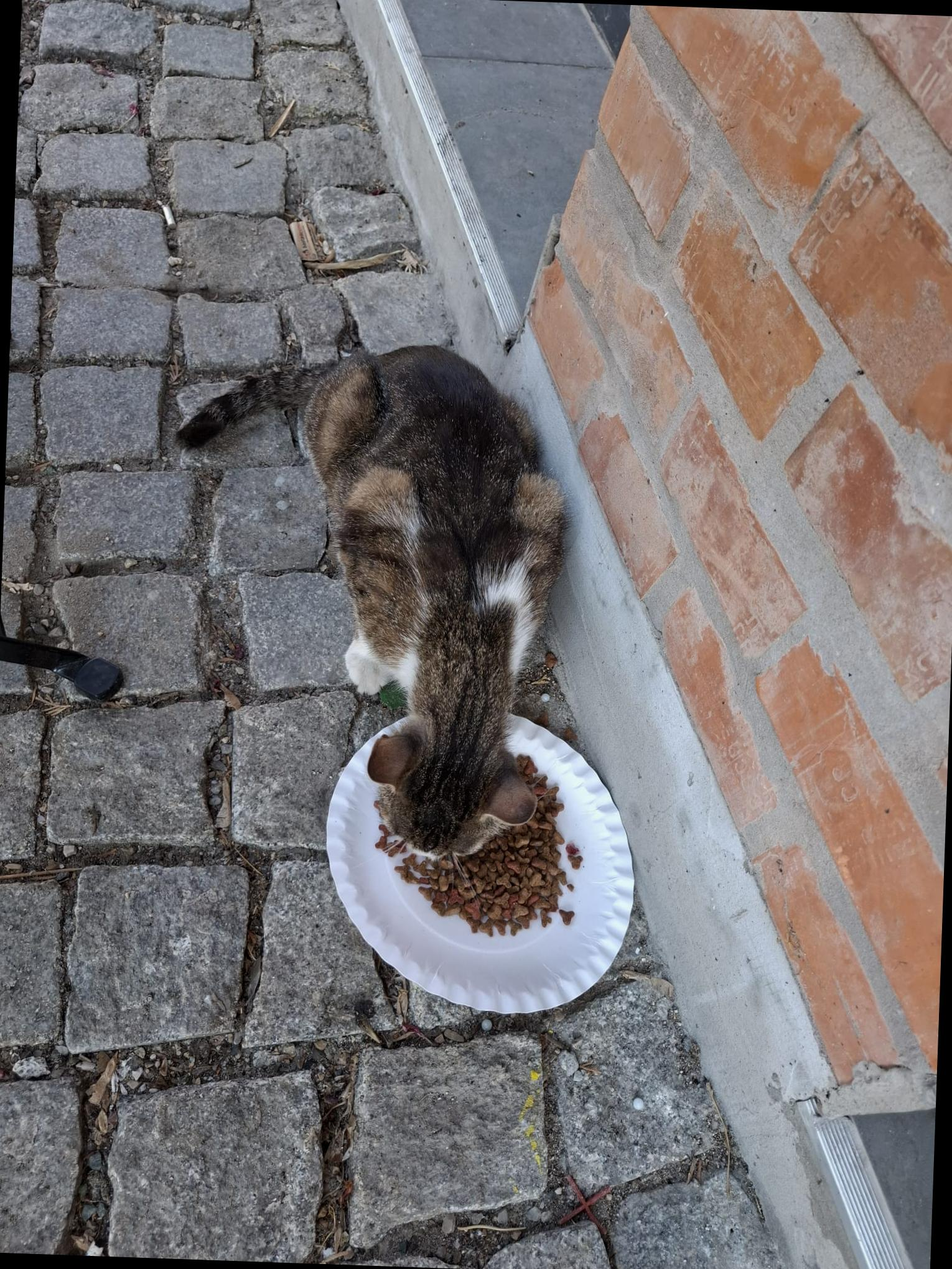macka: (161, 338, 576, 863)
